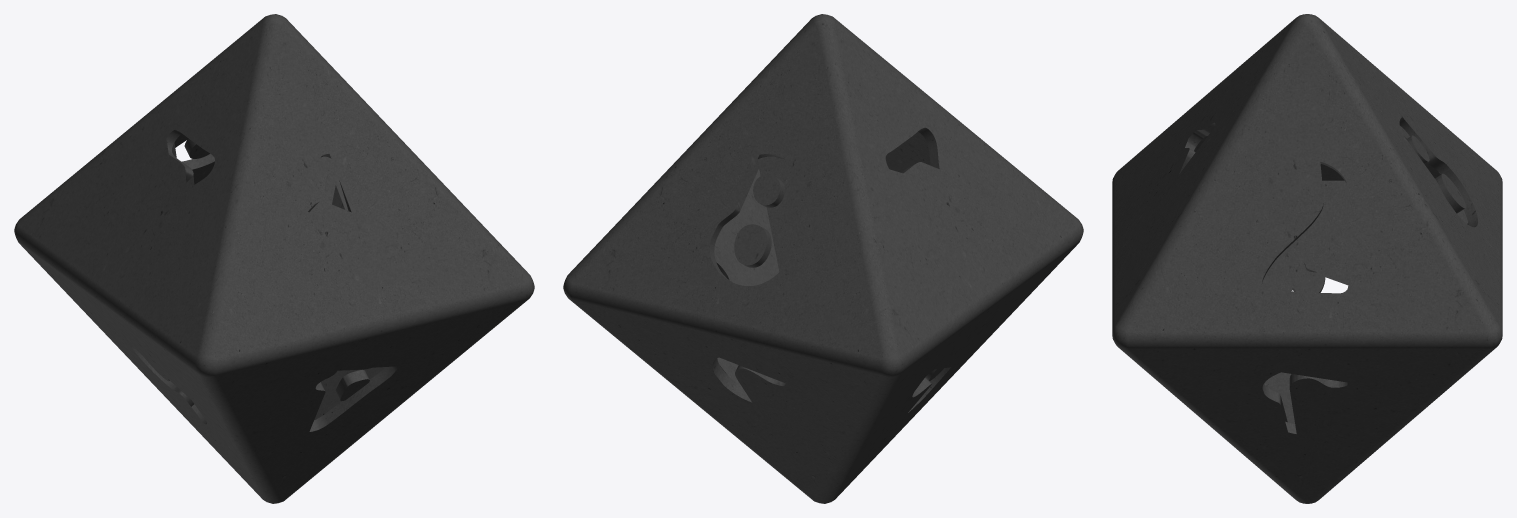
The model's file is d8 outer.fbx.
3 views of the same model, side by side, from view 1: azimuth 30°, elevation 25°; view 2: azimuth 150°, elevation 25°; view 3: azimuth 270°, elevation 25° (orthographic).
Parts seen in each view (by area): view 1: d8 outer; view 2: d8 outer; view 3: d8 outer.
Part boxes in pixels (x1,y1,x2,y2): d8 outer: (14,14,534,503); d8 outer: (563,14,1083,503); d8 outer: (1112,14,1502,503).
Bounding box in the file's own units: 83.2 × 115 × 83.2.
